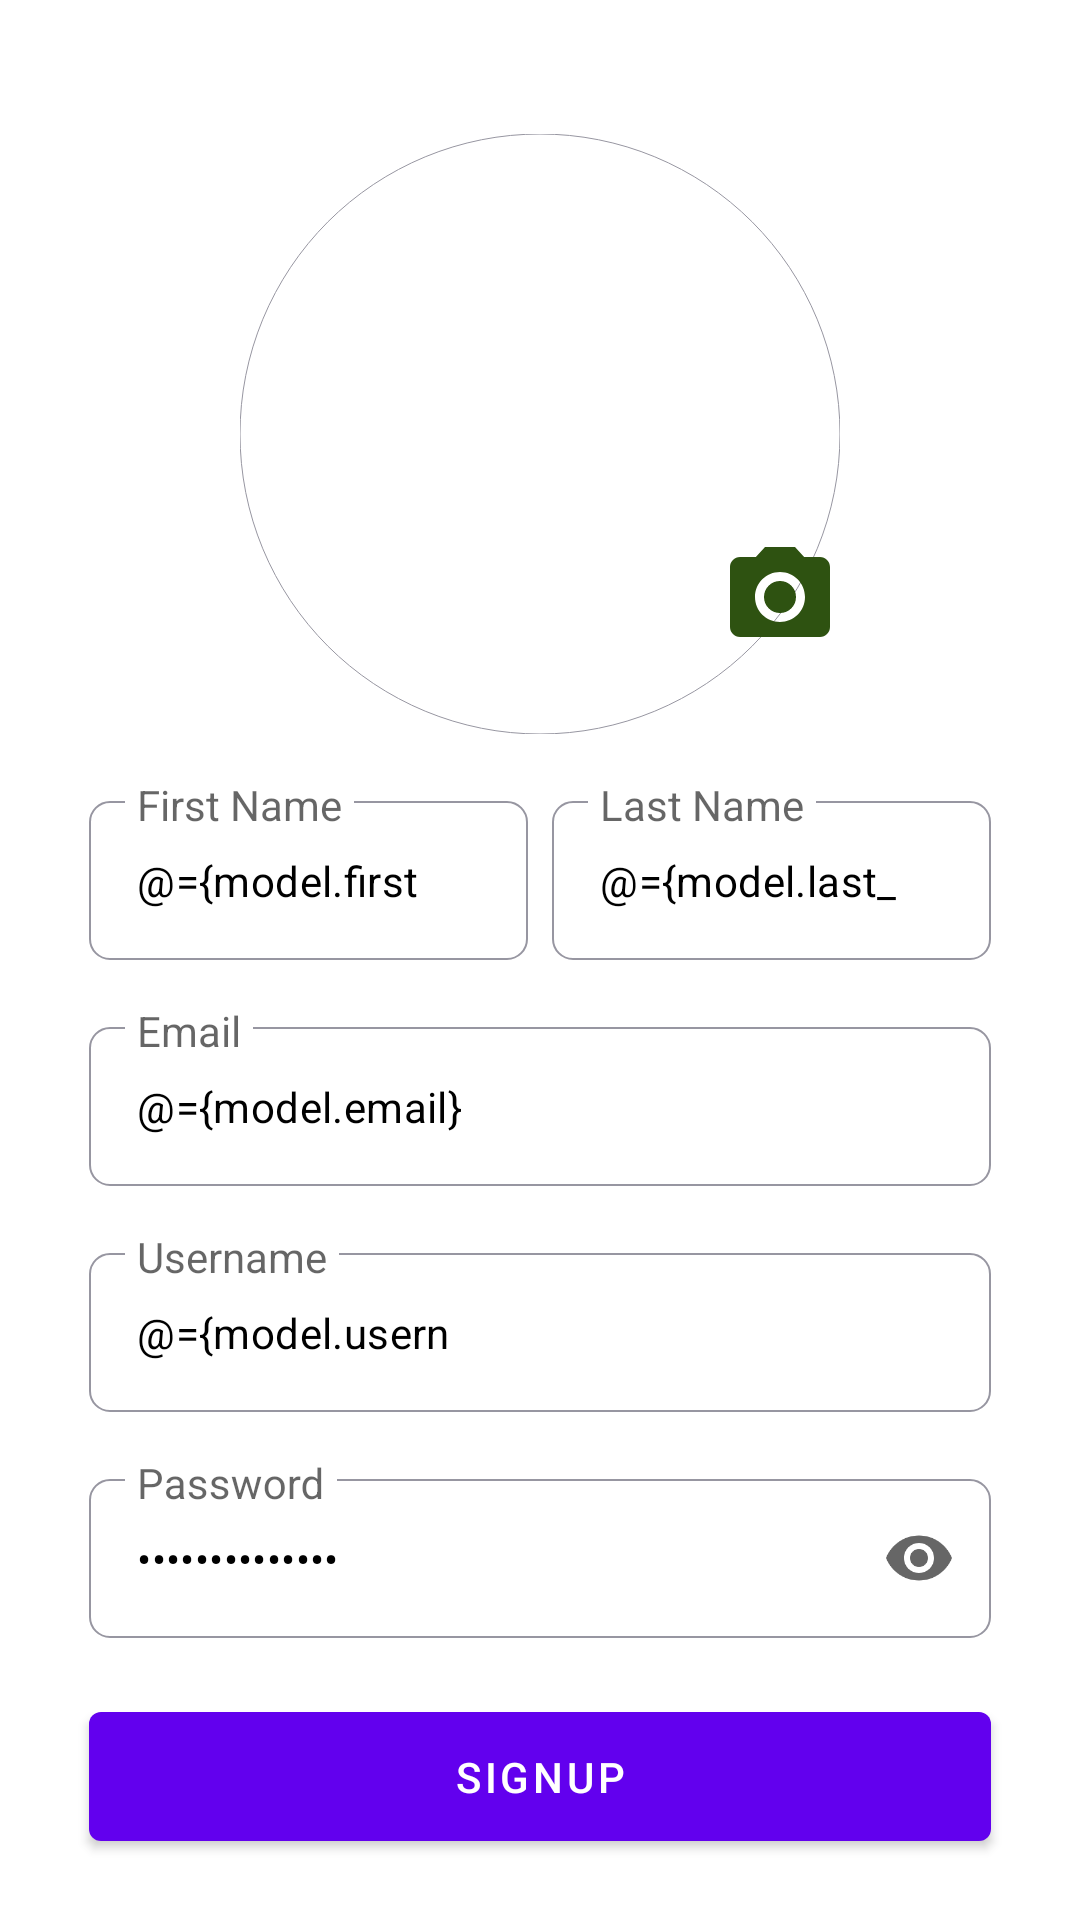

Screen size 1080px x 1920px. Icon name, then its center in pixels as (x=x, y=y):
camera: (x=780, y=597)
